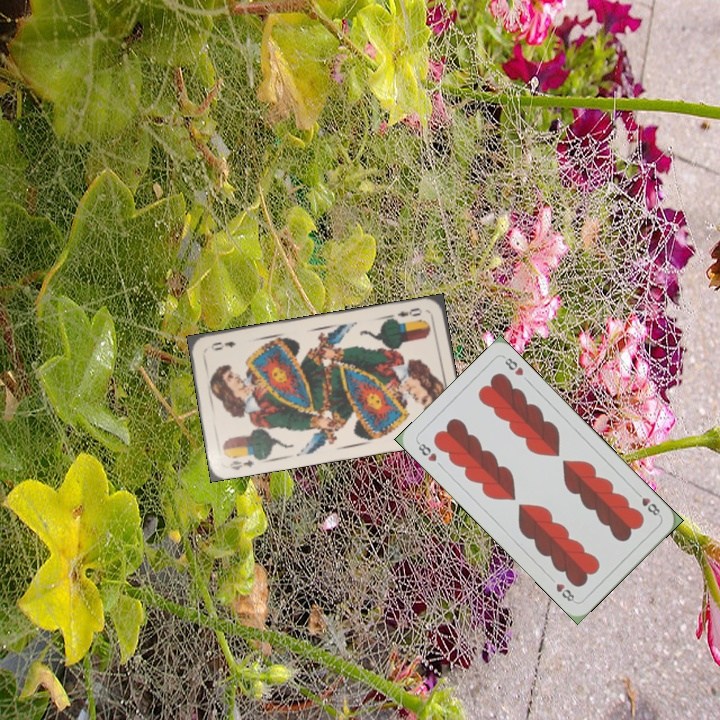EO: (225, 456, 255, 473), (393, 304, 424, 319)
H8: (631, 487, 663, 520), (413, 438, 439, 464)
